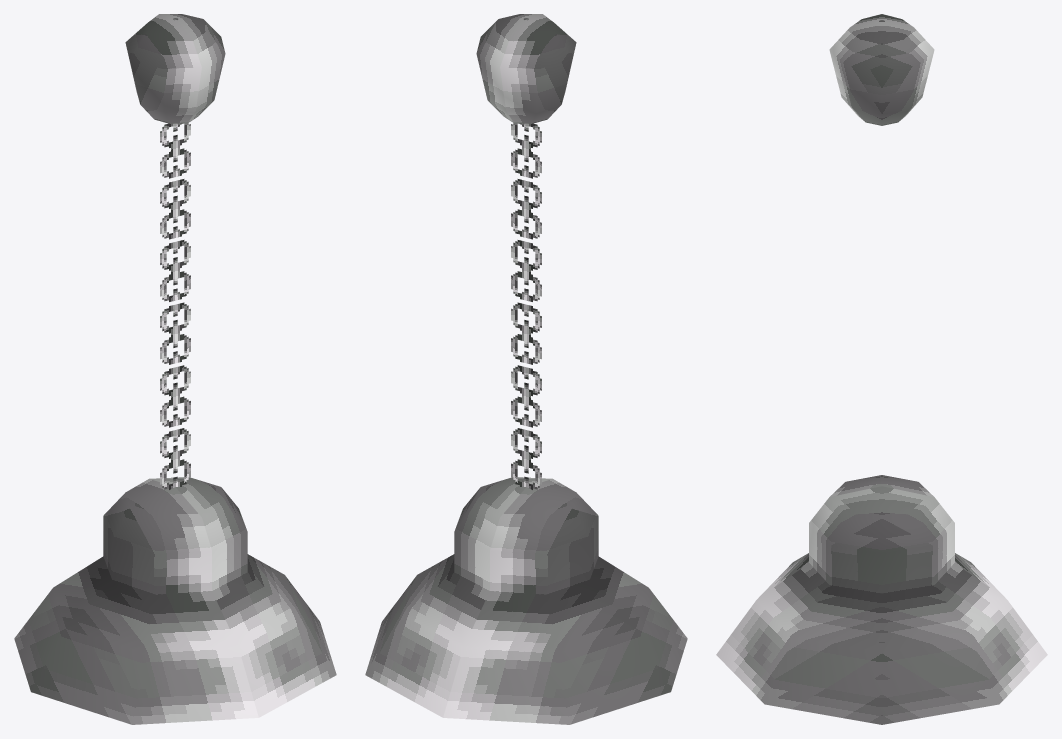
Rendered from ohikari.glb.
The picture shows the model from 3 angles, left to right: view 1: azimuth 30°, elevation 25°; view 2: azimuth 150°, elevation 25°; view 3: azimuth 270°, elevation 25°; orthographic projection.
Parts seen in each view (by area): view 1: ohikari; view 2: ohikari; view 3: ohikari.
Part boxes in pixels (x1=…): ohikari: x1=14, y1=14, x2=336, y2=724; ohikari: x1=365, y1=14, x2=687, y2=724; ohikari: x1=716, y1=14, x2=1047, y2=724.
Bounding box in the file's own units: 82 × 182 × 82.
Materials: 3 (3 with a texture image).
